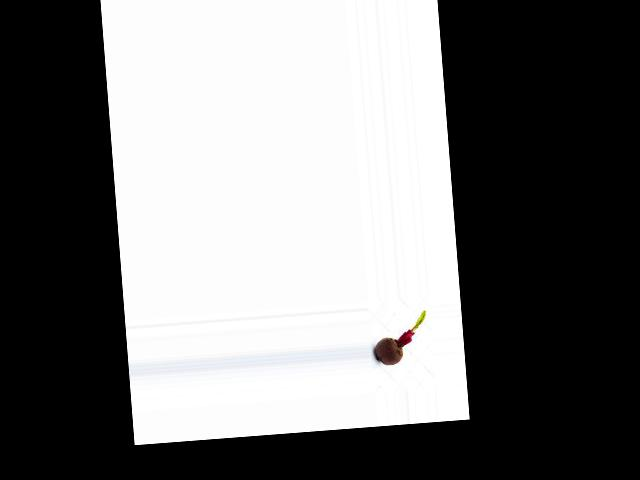beet: (372, 311, 429, 366)
